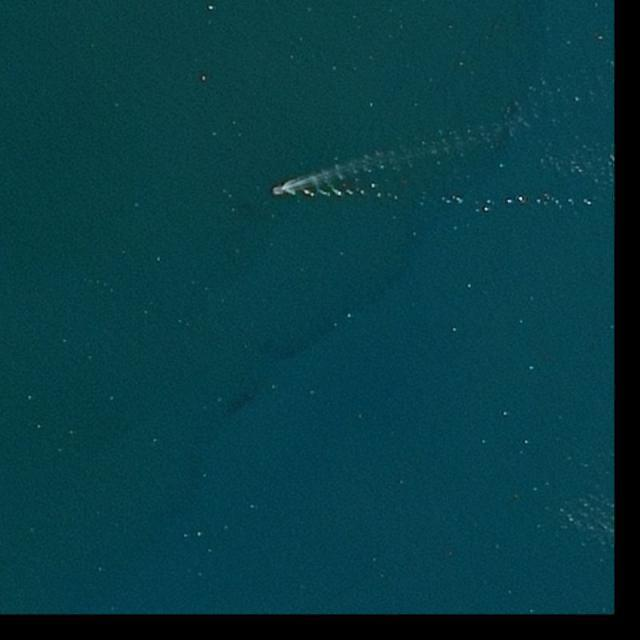ship: (274, 187, 286, 191)
